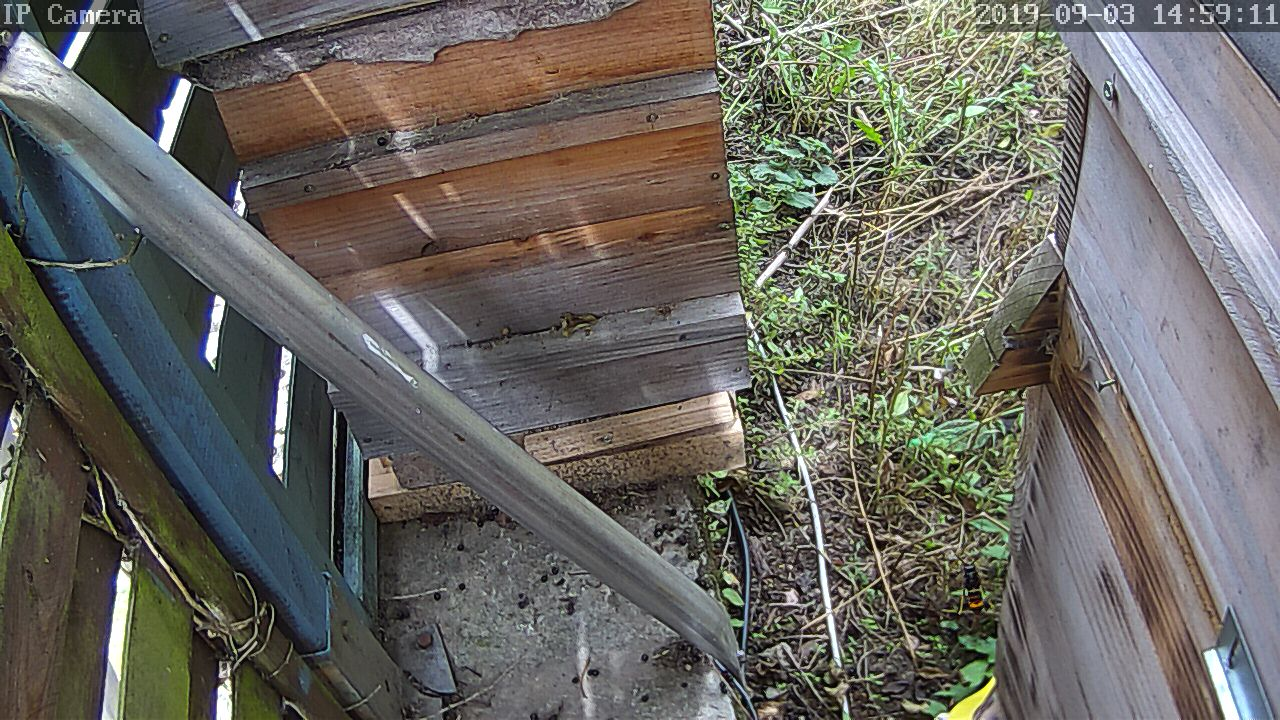hornet: (36, 0, 1223, 720)
